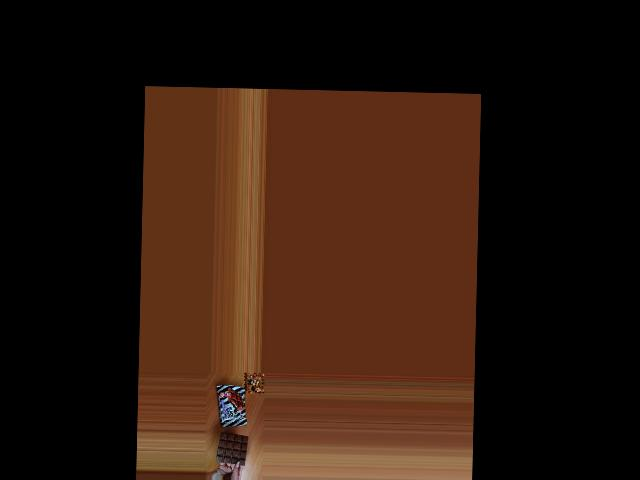chocolate: (216, 382, 246, 429)
